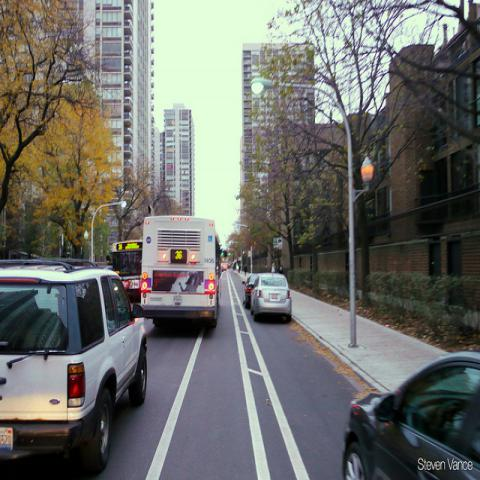bus: (139, 213, 222, 329), (111, 236, 143, 300)
car: (1, 257, 148, 476), (340, 349, 480, 479), (250, 273, 292, 321), (243, 274, 259, 308), (222, 264, 227, 272)
